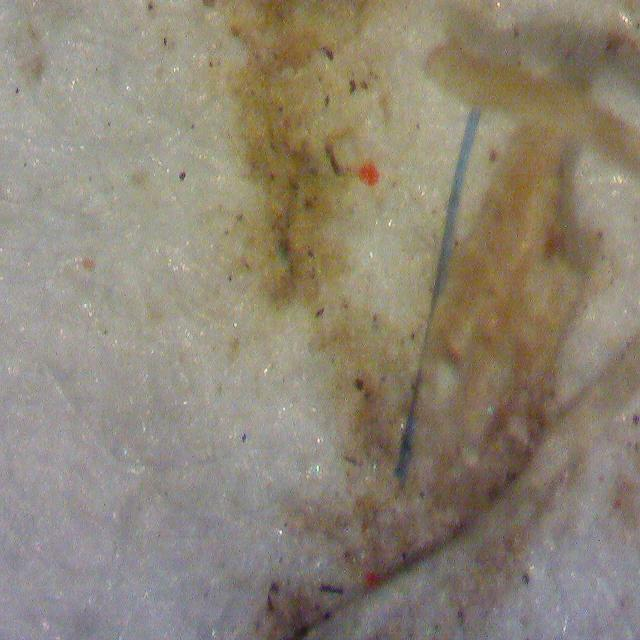microplastic: (394, 105, 484, 481)
